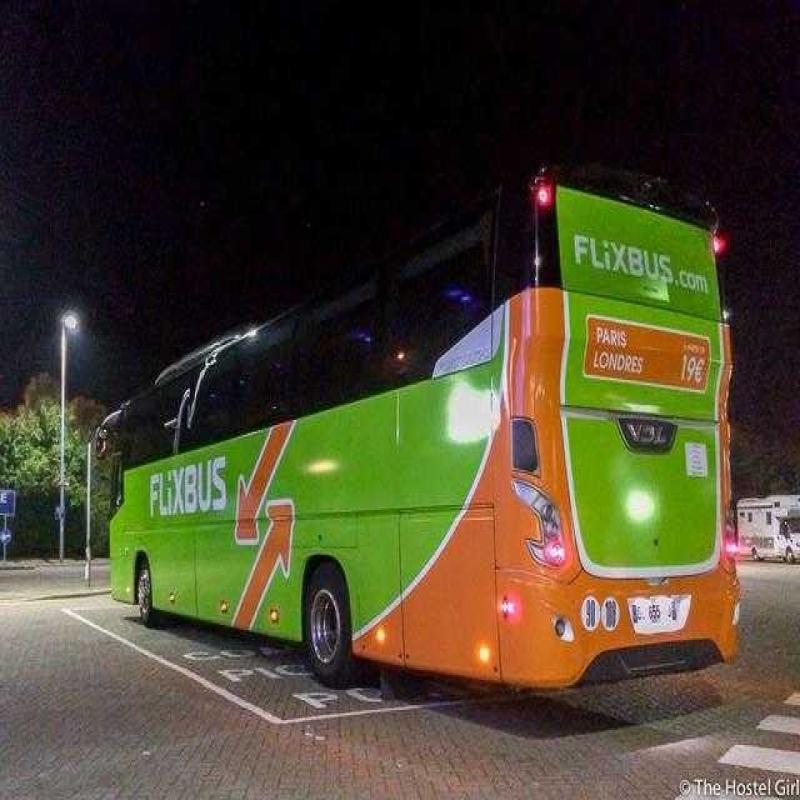bus: (69, 135, 774, 707)
